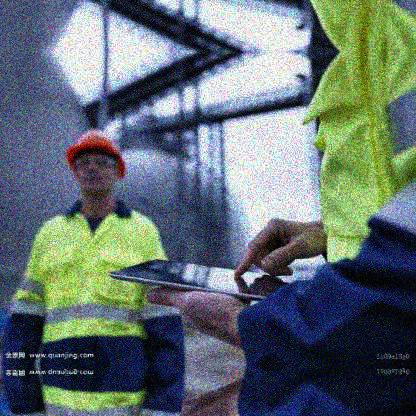helmet: (66, 130, 129, 204)
